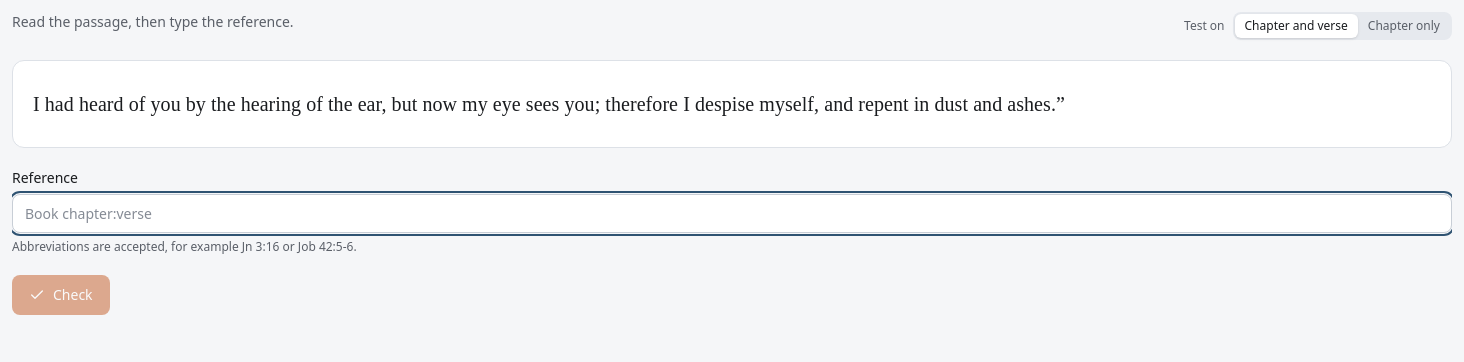
Test case: QuizReferenceMode › accepts the full reference
Type "Job 42:5-6" into the field labelled "Reference".
click(732, 214); type("Job 42:5-6")  # box [12,194,1452,233]
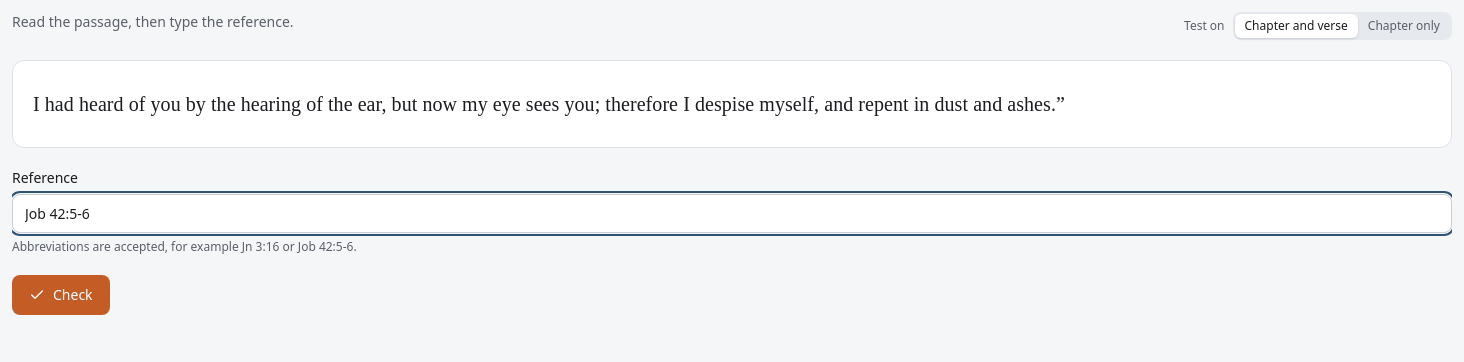
Click the button "Check".
click(61, 295)  # box [12,275,110,315]
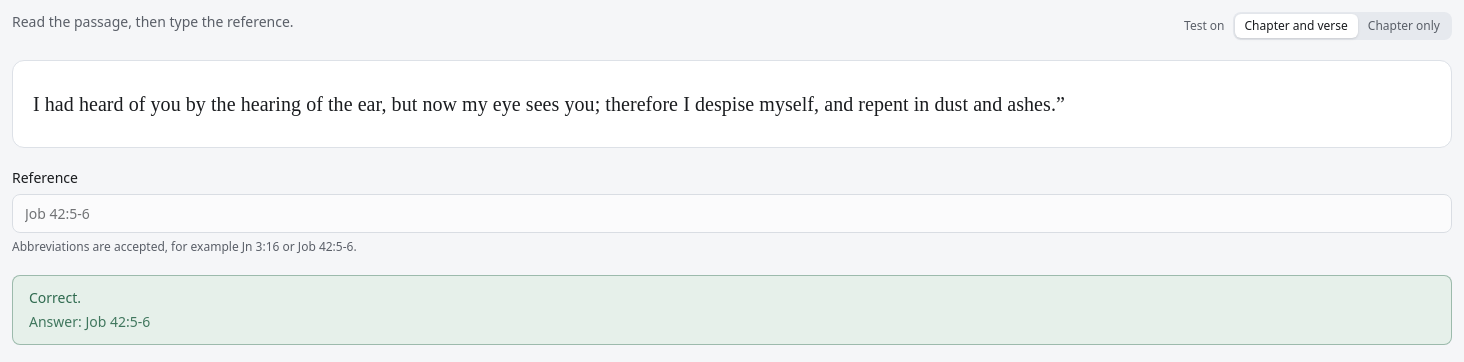
Now the message shows "Correct", box [29,288,81,307]
